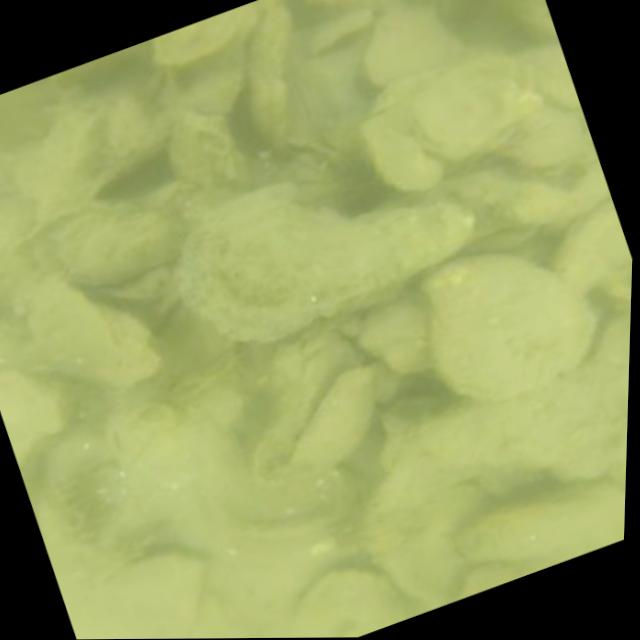Oyster-Closed: (226, 472, 353, 538)
Oyster-Indeterminate: (175, 186, 471, 343), (378, 354, 629, 506), (422, 253, 589, 403), (258, 324, 370, 485), (20, 97, 172, 213), (27, 284, 159, 385), (467, 480, 626, 563), (36, 204, 184, 285), (359, 7, 456, 89), (296, 368, 374, 468), (555, 203, 632, 295), (298, 568, 408, 629), (0, 373, 64, 464), (365, 115, 441, 191), (151, 11, 246, 65), (509, 118, 589, 168), (499, 0, 559, 46), (326, 0, 388, 9)
Oyster-Open: (101, 533, 227, 628)
